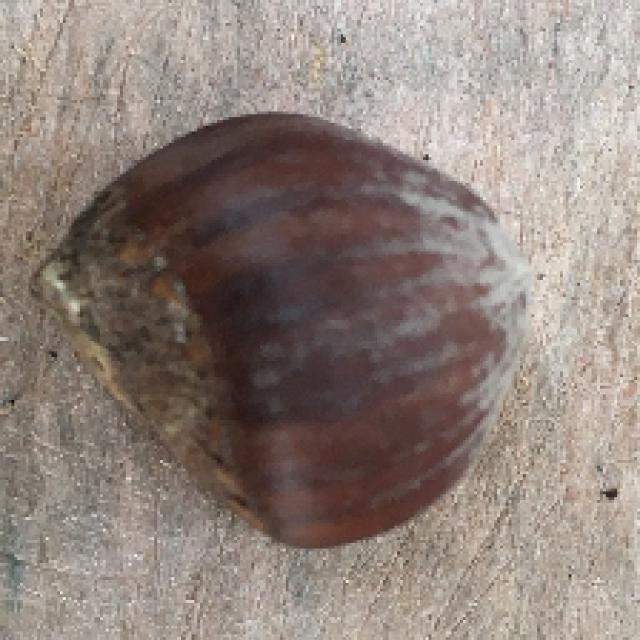DamagedHazelnut: (32, 114, 538, 545)
